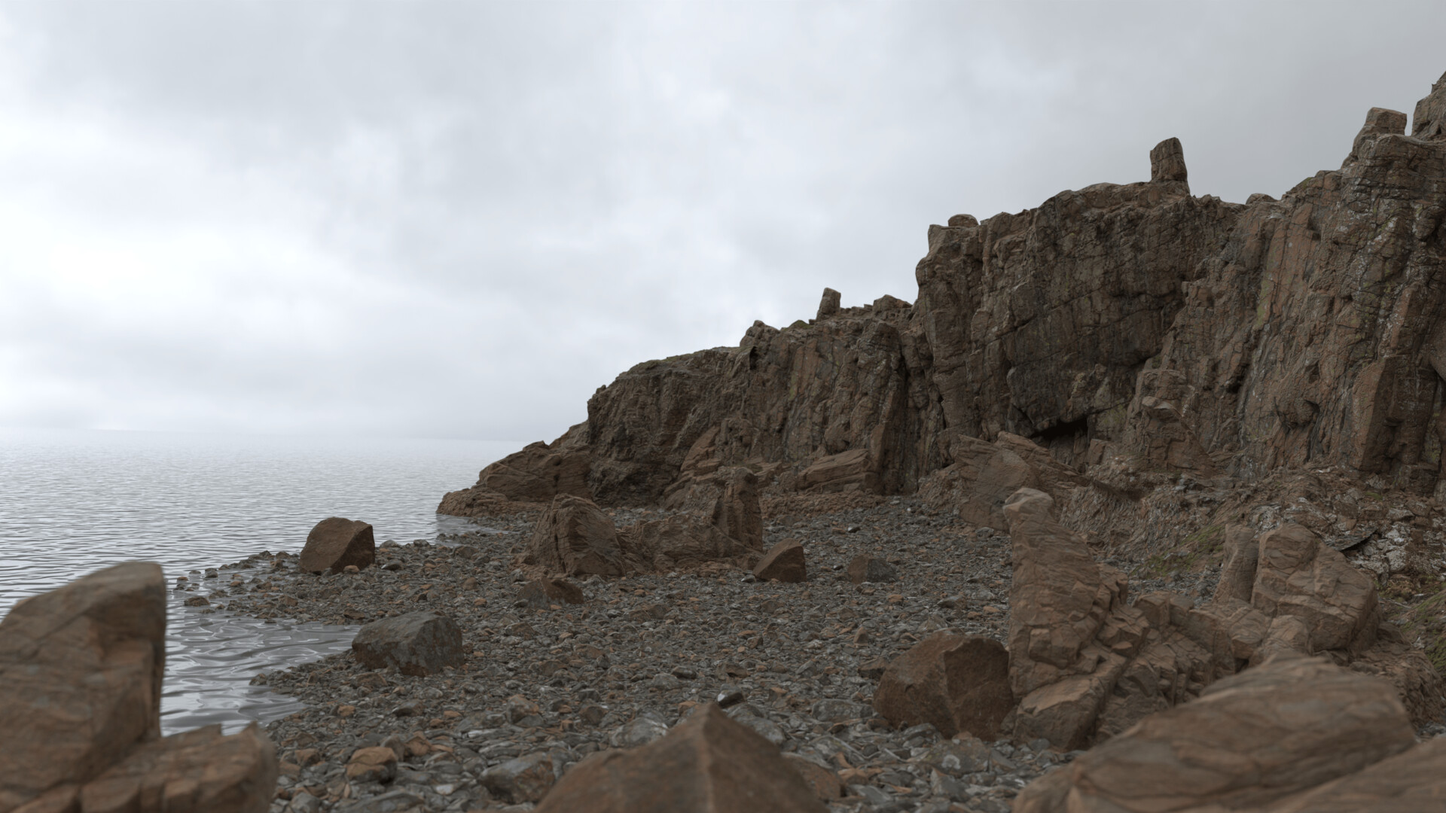Videoprojecteur: (1063, 337, 1350, 425)
